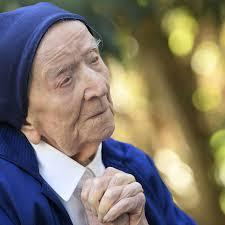Persons: (0, 0, 136, 158)
